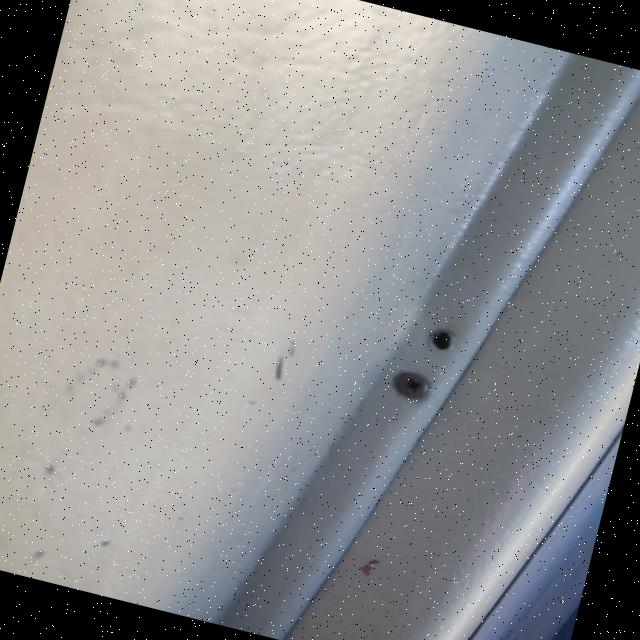Phillips: (385, 366, 436, 406)
